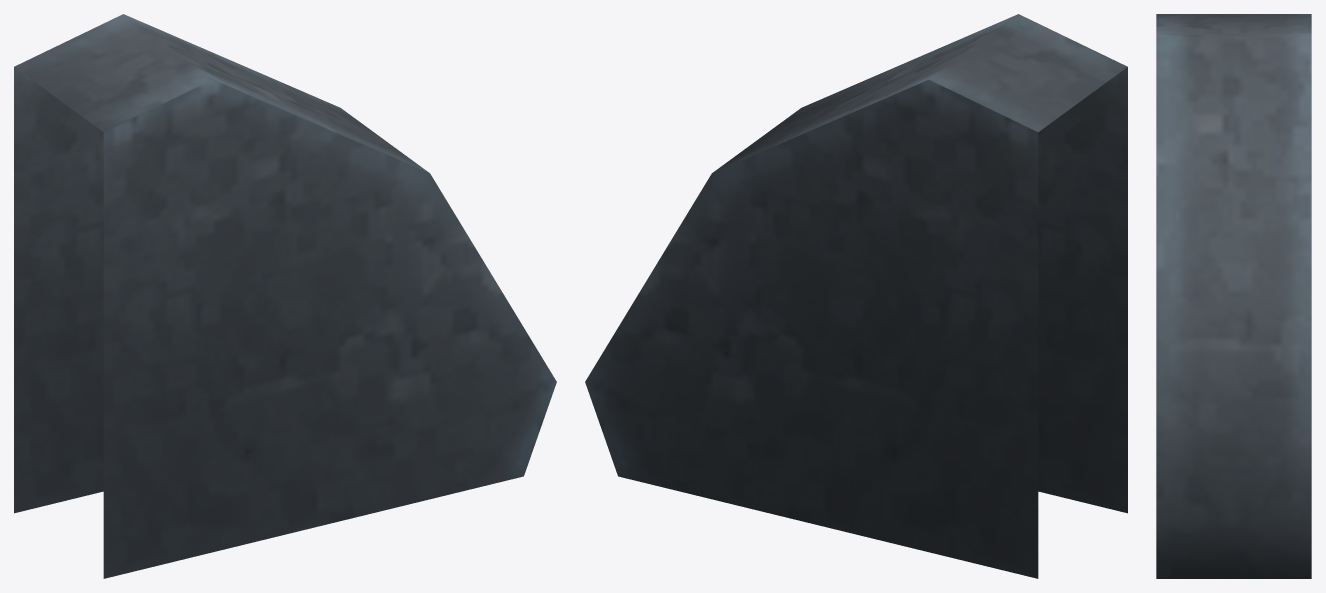
The model's file is FB_Dixiashuidao_Dibiao02.FBX.
3 views of the same model, side by side, from view 1: azimuth 30°, elevation 25°; view 2: azimuth 150°, elevation 25°; view 3: azimuth 270°, elevation 25° (orthographic). The views are drawn at different scales.
Visible parts, largest first — view 1: Object06; view 2: Object06; view 3: Object06.
Part boxes in pixels (box(x1,y1,x2,y2)): Object06: box(14, 14, 556, 578); Object06: box(585, 14, 1127, 578); Object06: box(1156, 14, 1311, 578).
Bounding box in the file's own units: 1.84 × 1.83 × 0.629.
